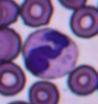N: (23, 27, 78, 78)
